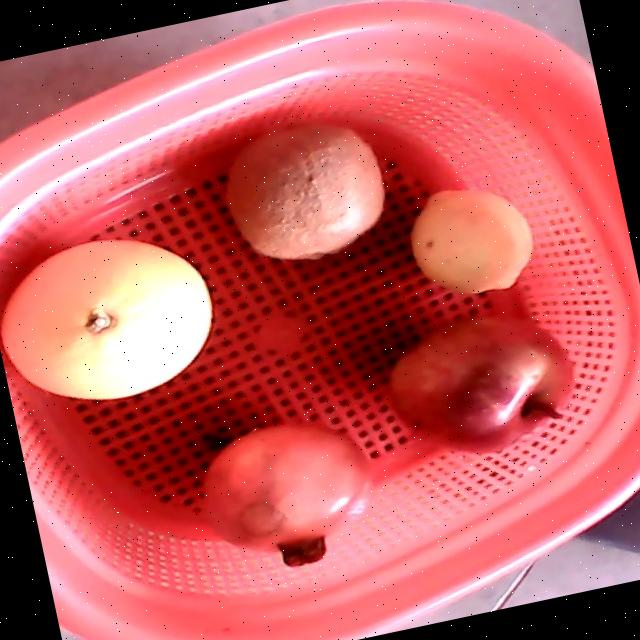apple: (388, 316, 573, 456)
kiwi: (223, 122, 384, 259)
lemon: (410, 189, 533, 294)
orange: (0, 239, 211, 398)
pomegranate: (201, 421, 371, 570)
